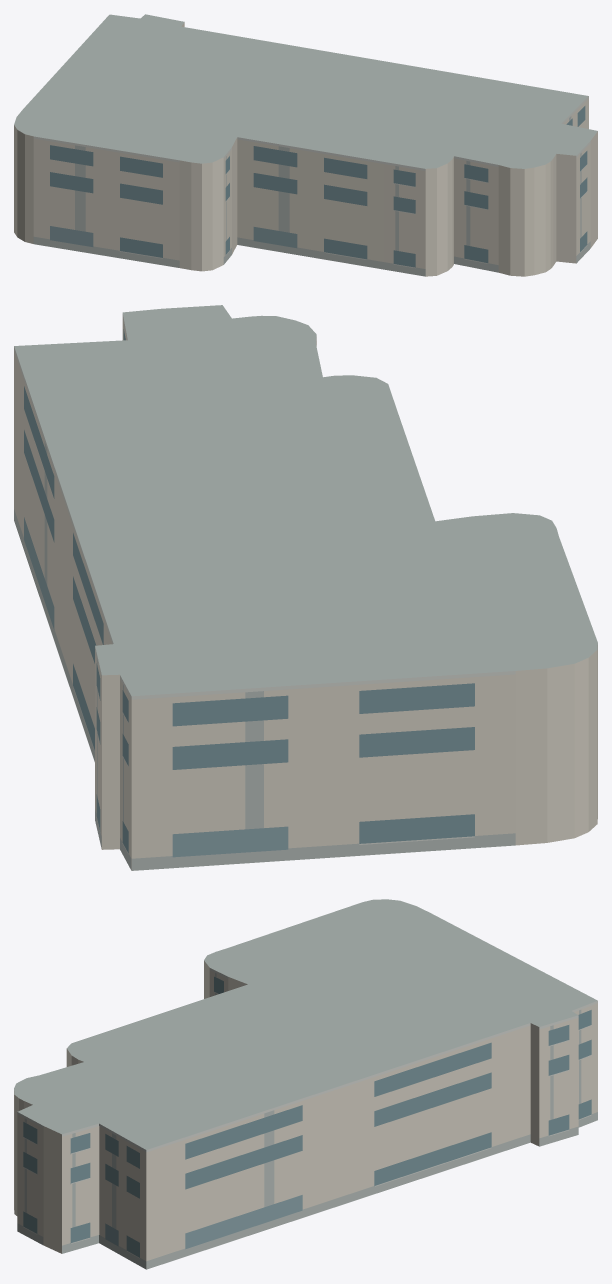
The model's file is survey-upis-32783391.glb.
The picture shows the model from 3 angles, top to bottom: view 1: azimuth 30°, elevation 25°; view 2: azimuth 150°, elevation 25°; view 3: azimuth 270°, elevation 25°; orthographic projection. The views are drawn at different scales.
Parts seen in each view (by area): view 1: survey-upis-32783391.tmp; view 2: survey-upis-32783391.tmp; view 3: survey-upis-32783391.tmp.
Part boxes in pixels (x1,y1,x2,y2): survey-upis-32783391.tmp: (14,14,597,276); survey-upis-32783391.tmp: (14,305,597,870); survey-upis-32783391.tmp: (14,899,597,1269).
Bounding box in the file's own units: 54.88 × 12.2 × 54.
